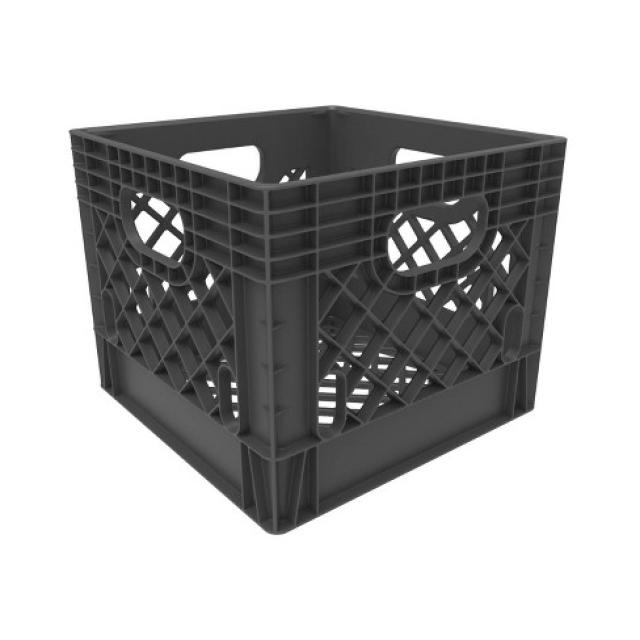basket: (27, 75, 566, 562)
